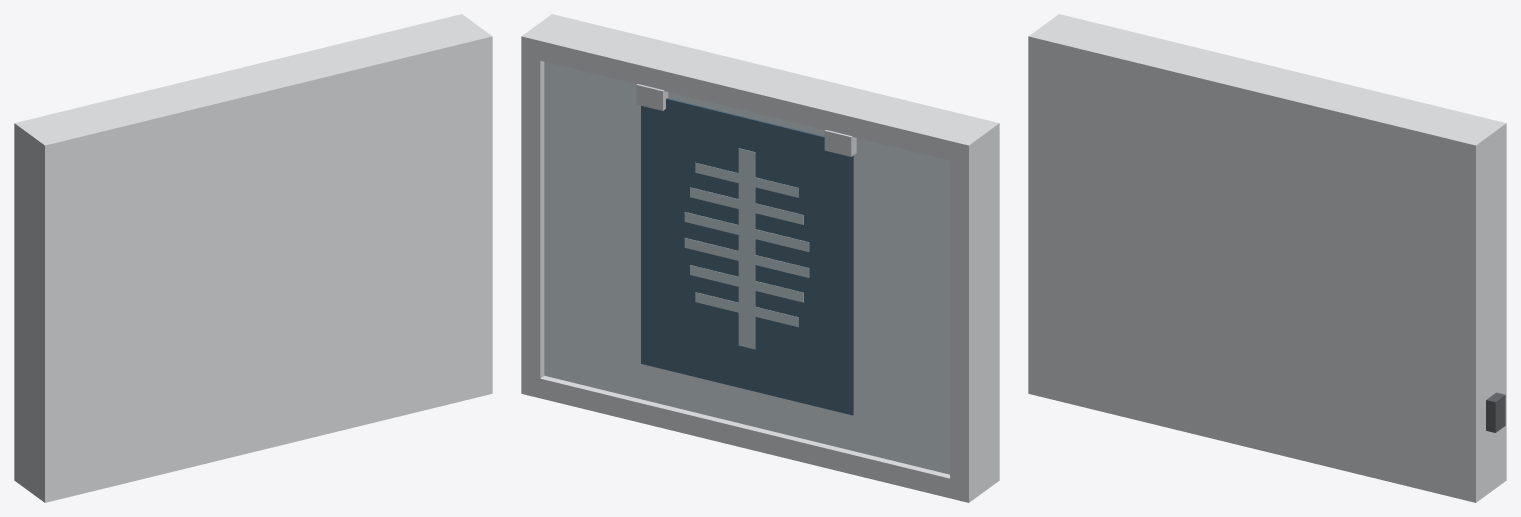
The model's file is xraypicture.fbx.
The picture shows the model from 3 angles, left to right: view 1: azimuth 30°, elevation 25°; view 2: azimuth 150°, elevation 25°; view 3: azimuth 330°, elevation 25°; orthographic projection.
Parts seen in each view (by area): view 1: 07_XrayViewBox_Intact_Mesh; view 2: 07_XrayViewBox_Intact_Mesh; view 3: 07_XrayViewBox_Intact_Mesh.
Part boxes in pixels (x1=…): 07_XrayViewBox_Intact_Mesh: x1=14, y1=14, x2=492, y2=502; 07_XrayViewBox_Intact_Mesh: x1=521, y1=14, x2=999, y2=502; 07_XrayViewBox_Intact_Mesh: x1=1028, y1=14, x2=1506, y2=502.
Size of the model in its own units: 77.6 by 58 by 9.4.
